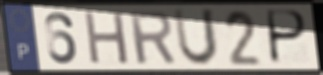2: (223, 8, 265, 67)
6: (43, 11, 79, 66)
H: (82, 9, 131, 66)
P: (266, 8, 310, 67)
R: (126, 10, 178, 66)
U: (171, 7, 221, 69)
